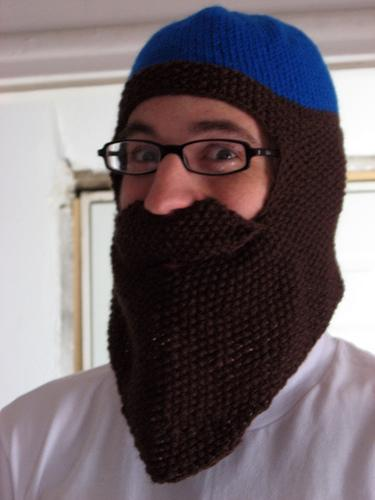face_mask: (113, 66, 272, 321)
